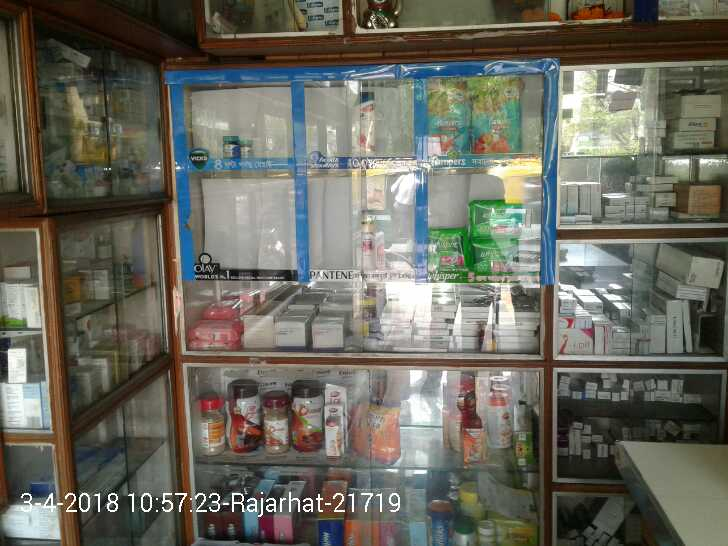vicks: (225, 133, 250, 159)
